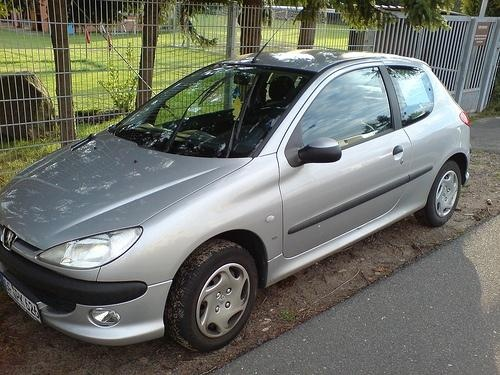car: (1, 46, 472, 351)
